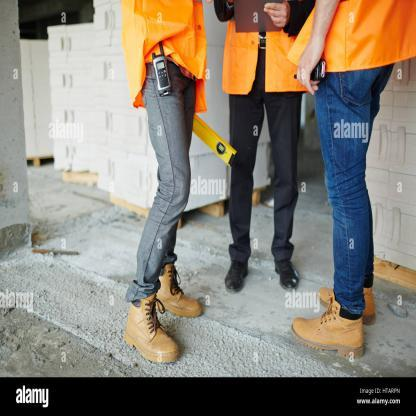bota: (221, 258, 252, 296), (272, 260, 302, 292)
